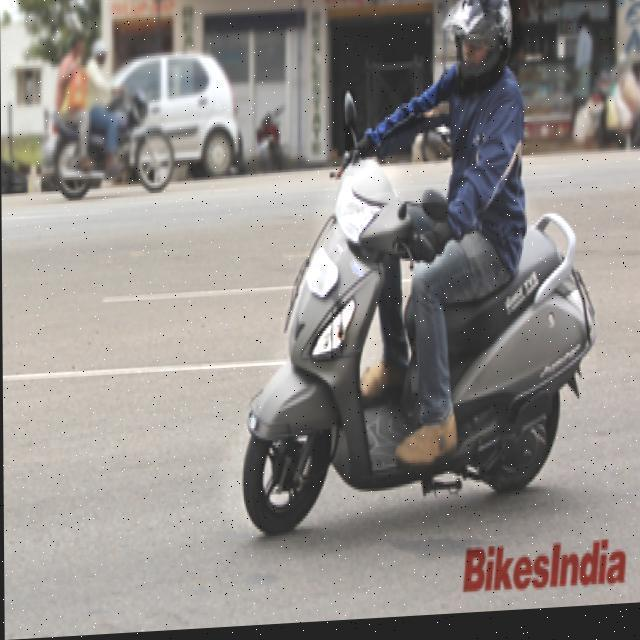Helmet: (443, 0, 524, 104)
